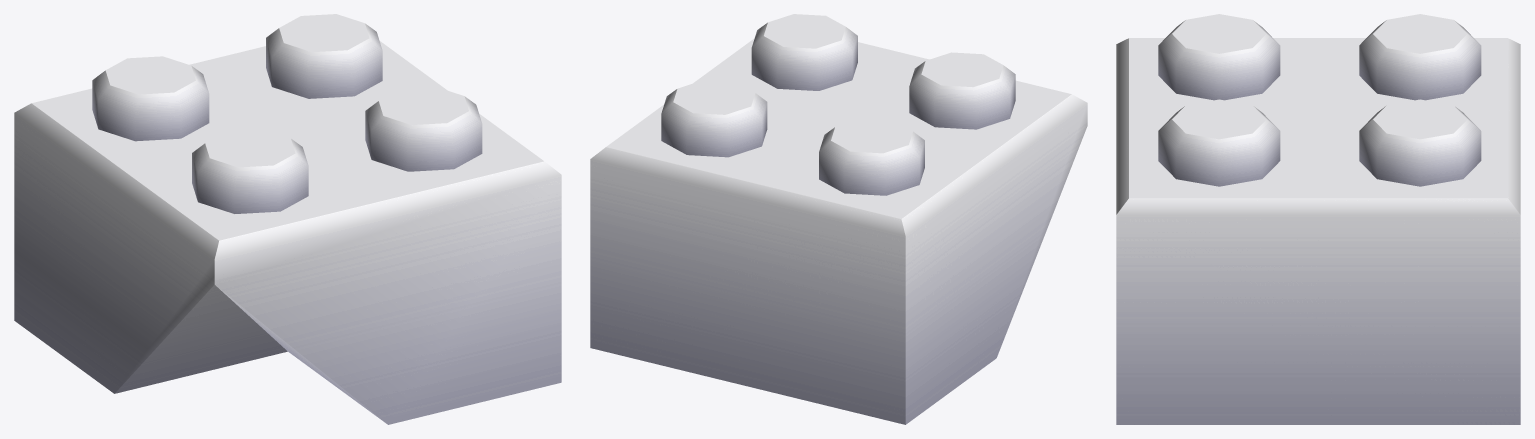
The model's file is round-hq-brick-slope-corner-inside-inverted-2x2.glb.
The picture shows the model from 3 angles, left to right: view 1: azimuth 30°, elevation 25°; view 2: azimuth 150°, elevation 25°; view 3: azimuth 270°, elevation 25°; orthographic projection. The views are drawn at different scales.
Visible parts, largest first — view 1: round-hq-brick-slope-corner-inside-inverted-2x2; view 2: round-hq-brick-slope-corner-inside-inverted-2x2; view 3: round-hq-brick-slope-corner-inside-inverted-2x2.
Boxes of the visible parts, x1=… form: round-hq-brick-slope-corner-inside-inverted-2x2: x1=14, y1=14, x2=561, y2=424; round-hq-brick-slope-corner-inside-inverted-2x2: x1=590, y1=14, x2=1087, y2=424; round-hq-brick-slope-corner-inside-inverted-2x2: x1=1116, y1=14, x2=1520, y2=424.
Bounding box in the file's own units: 0.159 × 0.114 × 0.159.
1 material, 1 textured.
